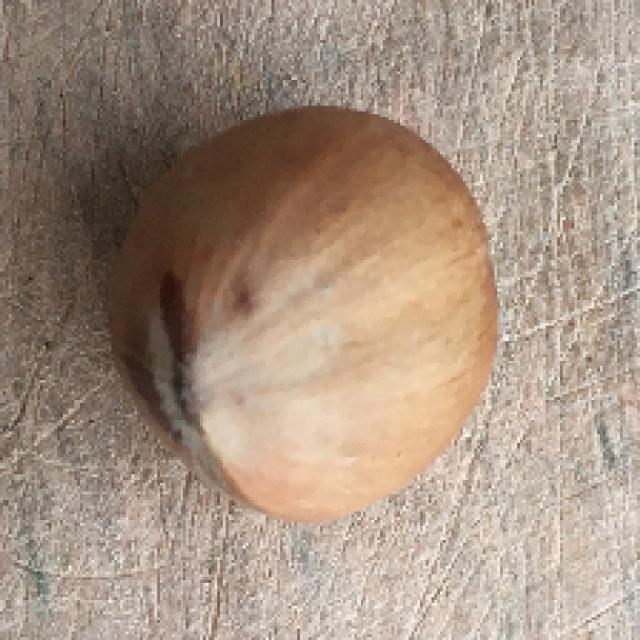damagedHazelnut: (114, 100, 504, 528)
